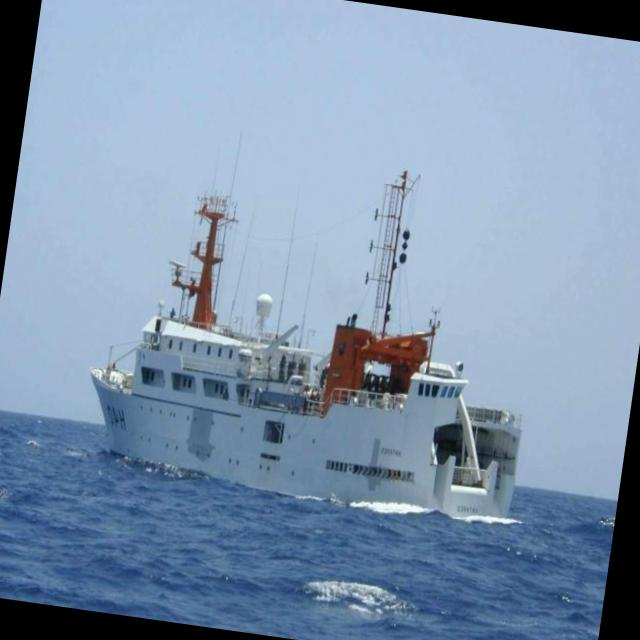Military: (92, 173, 522, 516)
